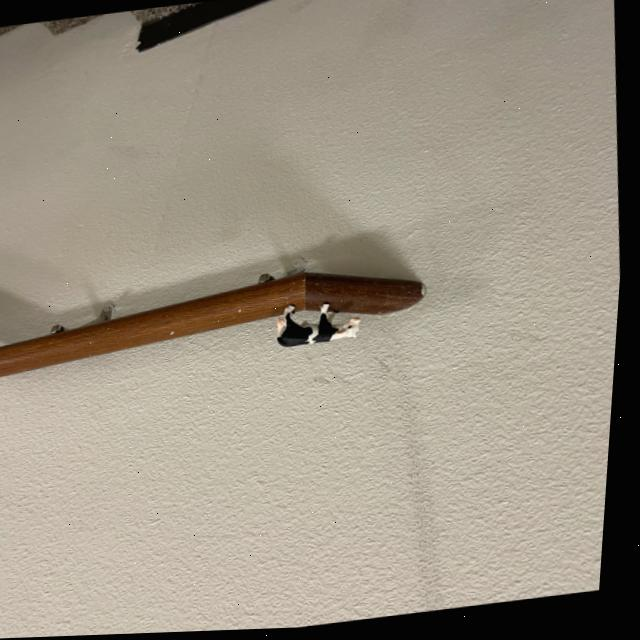cow: (279, 302, 366, 350)
